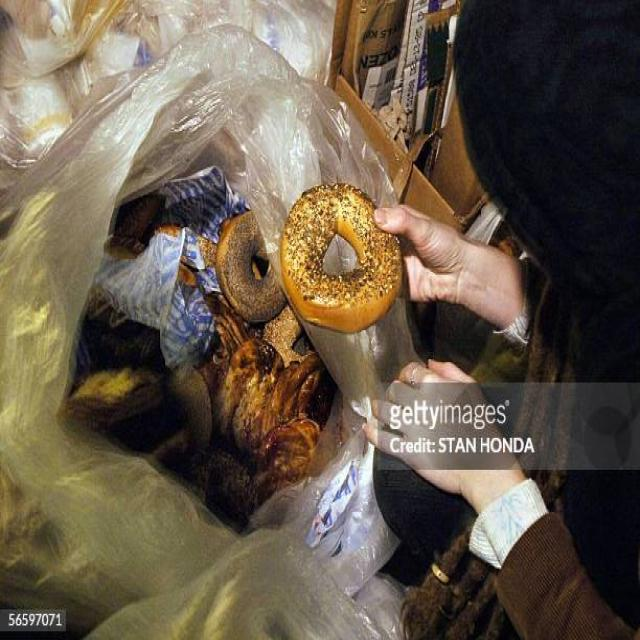trash: (48, 74, 457, 537)
